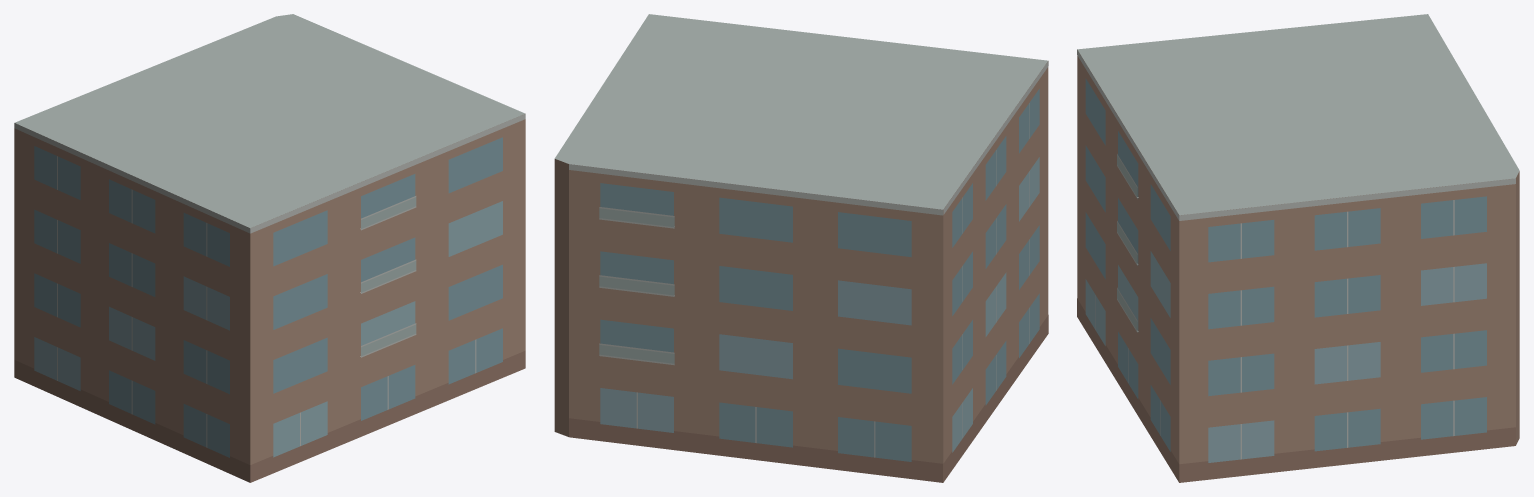
Rendered from survey-upis-32944569.glb.
3 views of the same model, side by side, from view 1: azimuth 30°, elevation 25°; view 2: azimuth 150°, elevation 25°; view 3: azimuth 270°, elevation 25° (orthographic). The views are drawn at different scales.
Visible parts, largest first — view 1: survey-upis-32944569.tmp; view 2: survey-upis-32944569.tmp; view 3: survey-upis-32944569.tmp.
Part boxes in pixels (x1,y1,x2,y2): survey-upis-32944569.tmp: (14, 14, 525, 482); survey-upis-32944569.tmp: (554, 14, 1048, 482); survey-upis-32944569.tmp: (1077, 14, 1519, 482).
Size of the model in its own units: 18.49 by 11.45 by 17.17.
